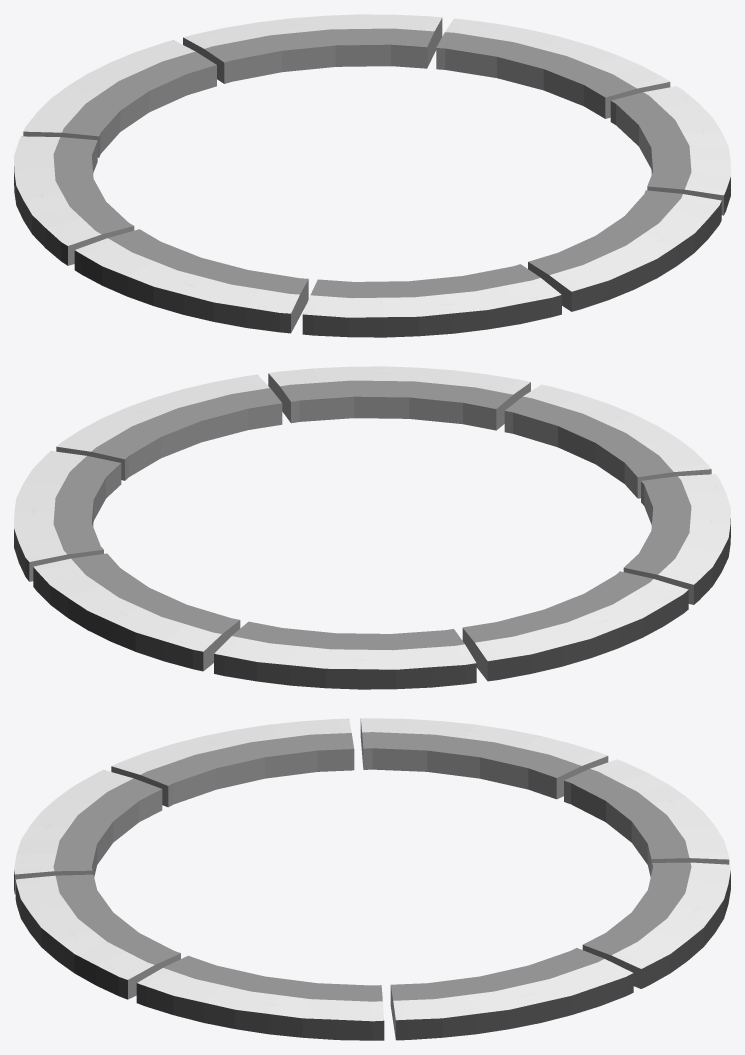
File: platform.fbx
The picture shows the model from 3 angles, top to bottom: view 1: azimuth 30°, elevation 25°; view 2: azimuth 150°, elevation 25°; view 3: azimuth 270°, elevation 25°; orthographic projection.
Parts seen in each view (by area): view 1: Platform; view 2: Platform; view 3: Platform.
Boxes of the visible parts, x1=… form: Platform: x1=14, y1=14, x2=730, y2=337; Platform: x1=14, y1=366, x2=730, y2=689; Platform: x1=14, y1=718, x2=730, y2=1040.
Size of the model in its own units: 400 by 14.03 by 400.
